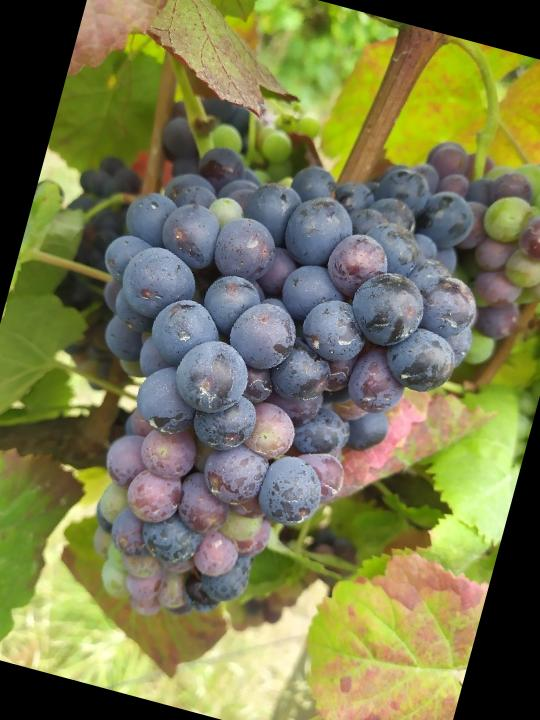grape: (8, 100, 511, 679)
